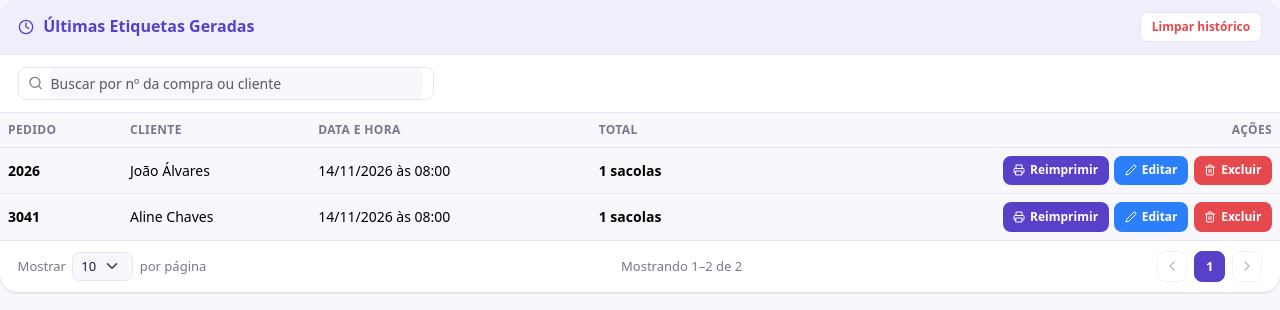
Test: HistoryTable — busca › filtra por cliente ignorando maiúsculas e acentos
The width and height of the screenshot is (1280, 310).
In the search field: (237, 83) [50, 68, 423, 99], type "joao"
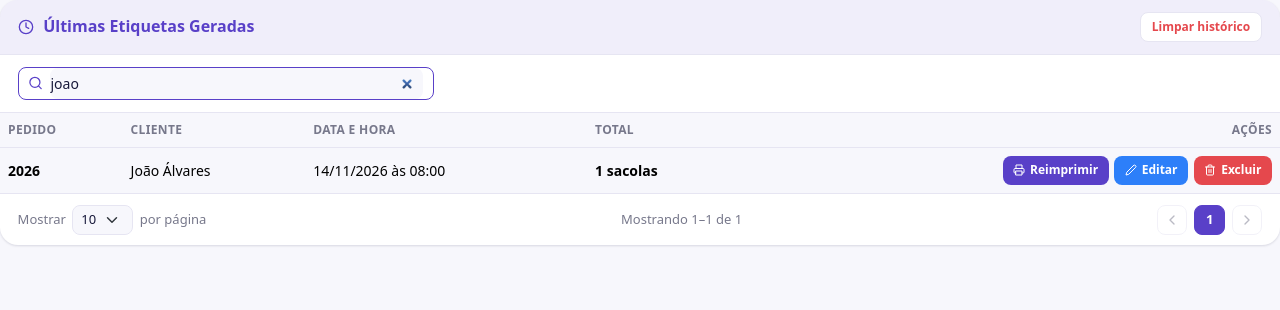
Expected: the text "João Álvares" is shown, [123, 147, 305, 193]
Result: the text "Aline Chaves" is gone
Result: the text "Mostrando 1–1 de 1" is shown at [621, 210, 742, 230]
